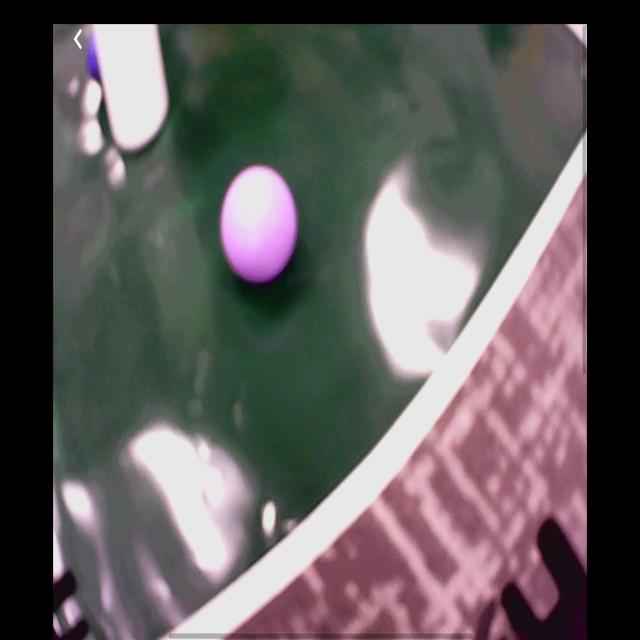ball: (220, 165, 298, 287), (87, 44, 103, 86)
